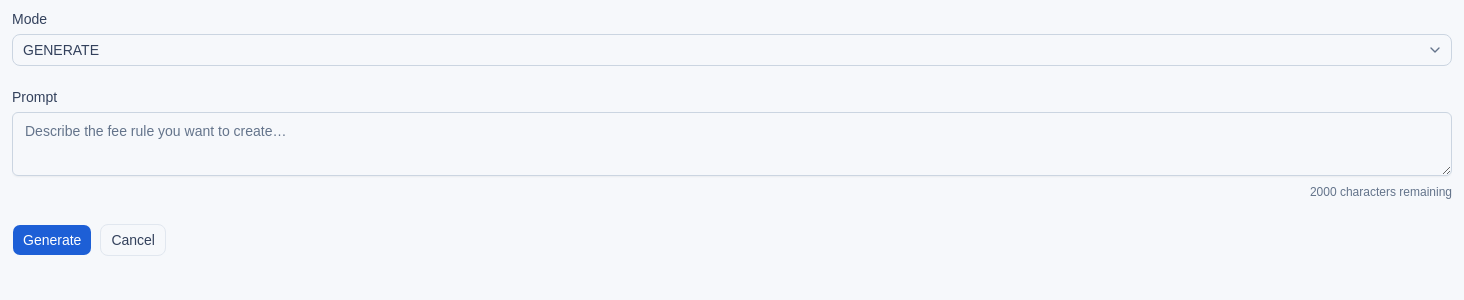
Test case: PromptForm › validates that prompt is required
Click the button "Generate" at [52, 240], box [12,224,92,256]
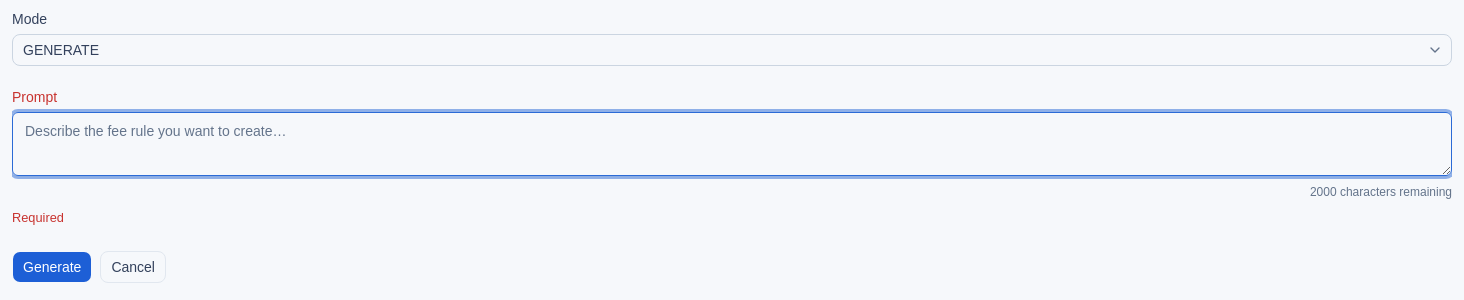
Expected: the text "Required" is shown, [12,210,64,225]
